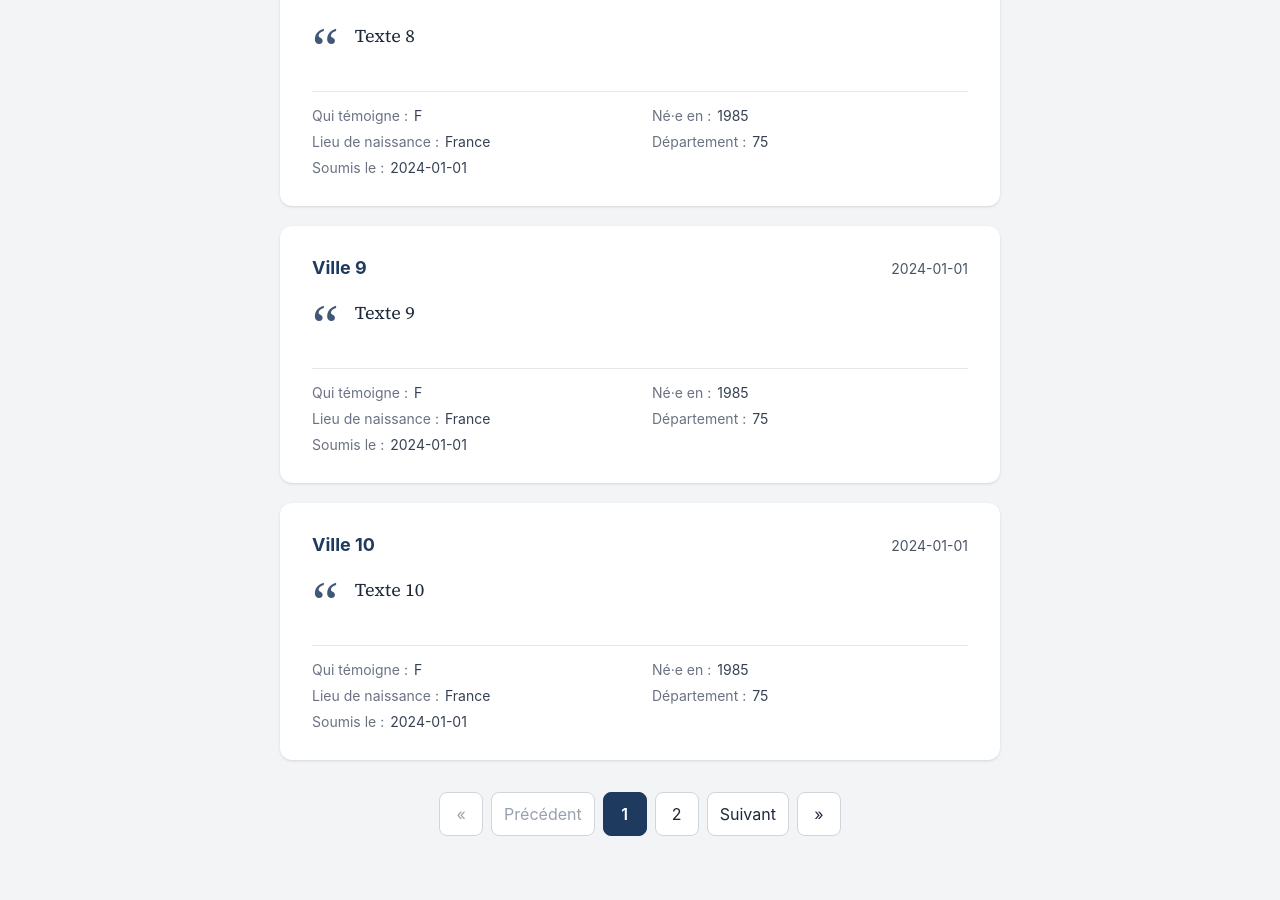
Testimonies Page › pagination › navigates to a specific page by clicking its number
(page scrolled)
Click the button "2".
click(677, 814)  # box [655, 792, 699, 836]
(page scrolled)
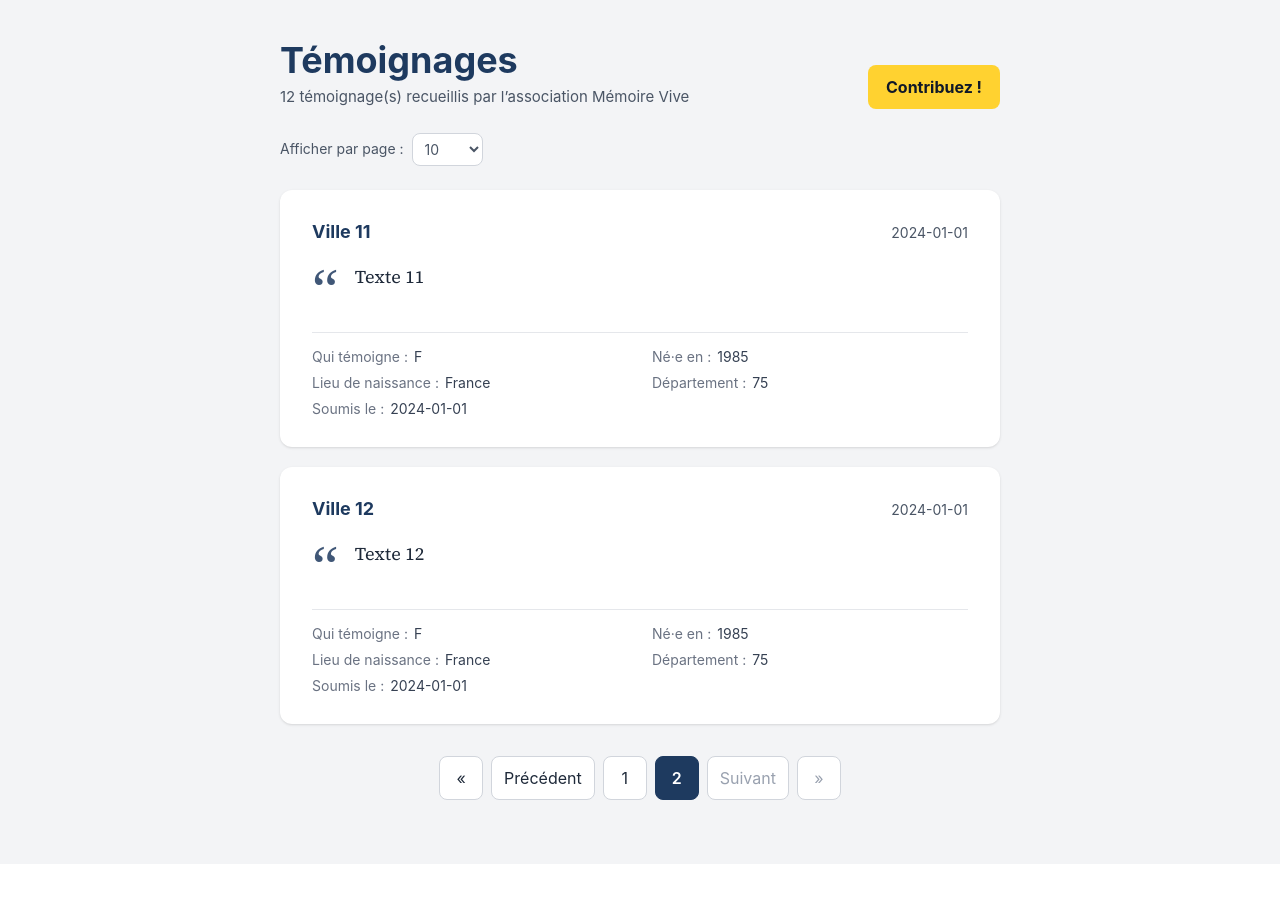
Check: the text "Texte 11" is shown, box [355, 262, 424, 292]
